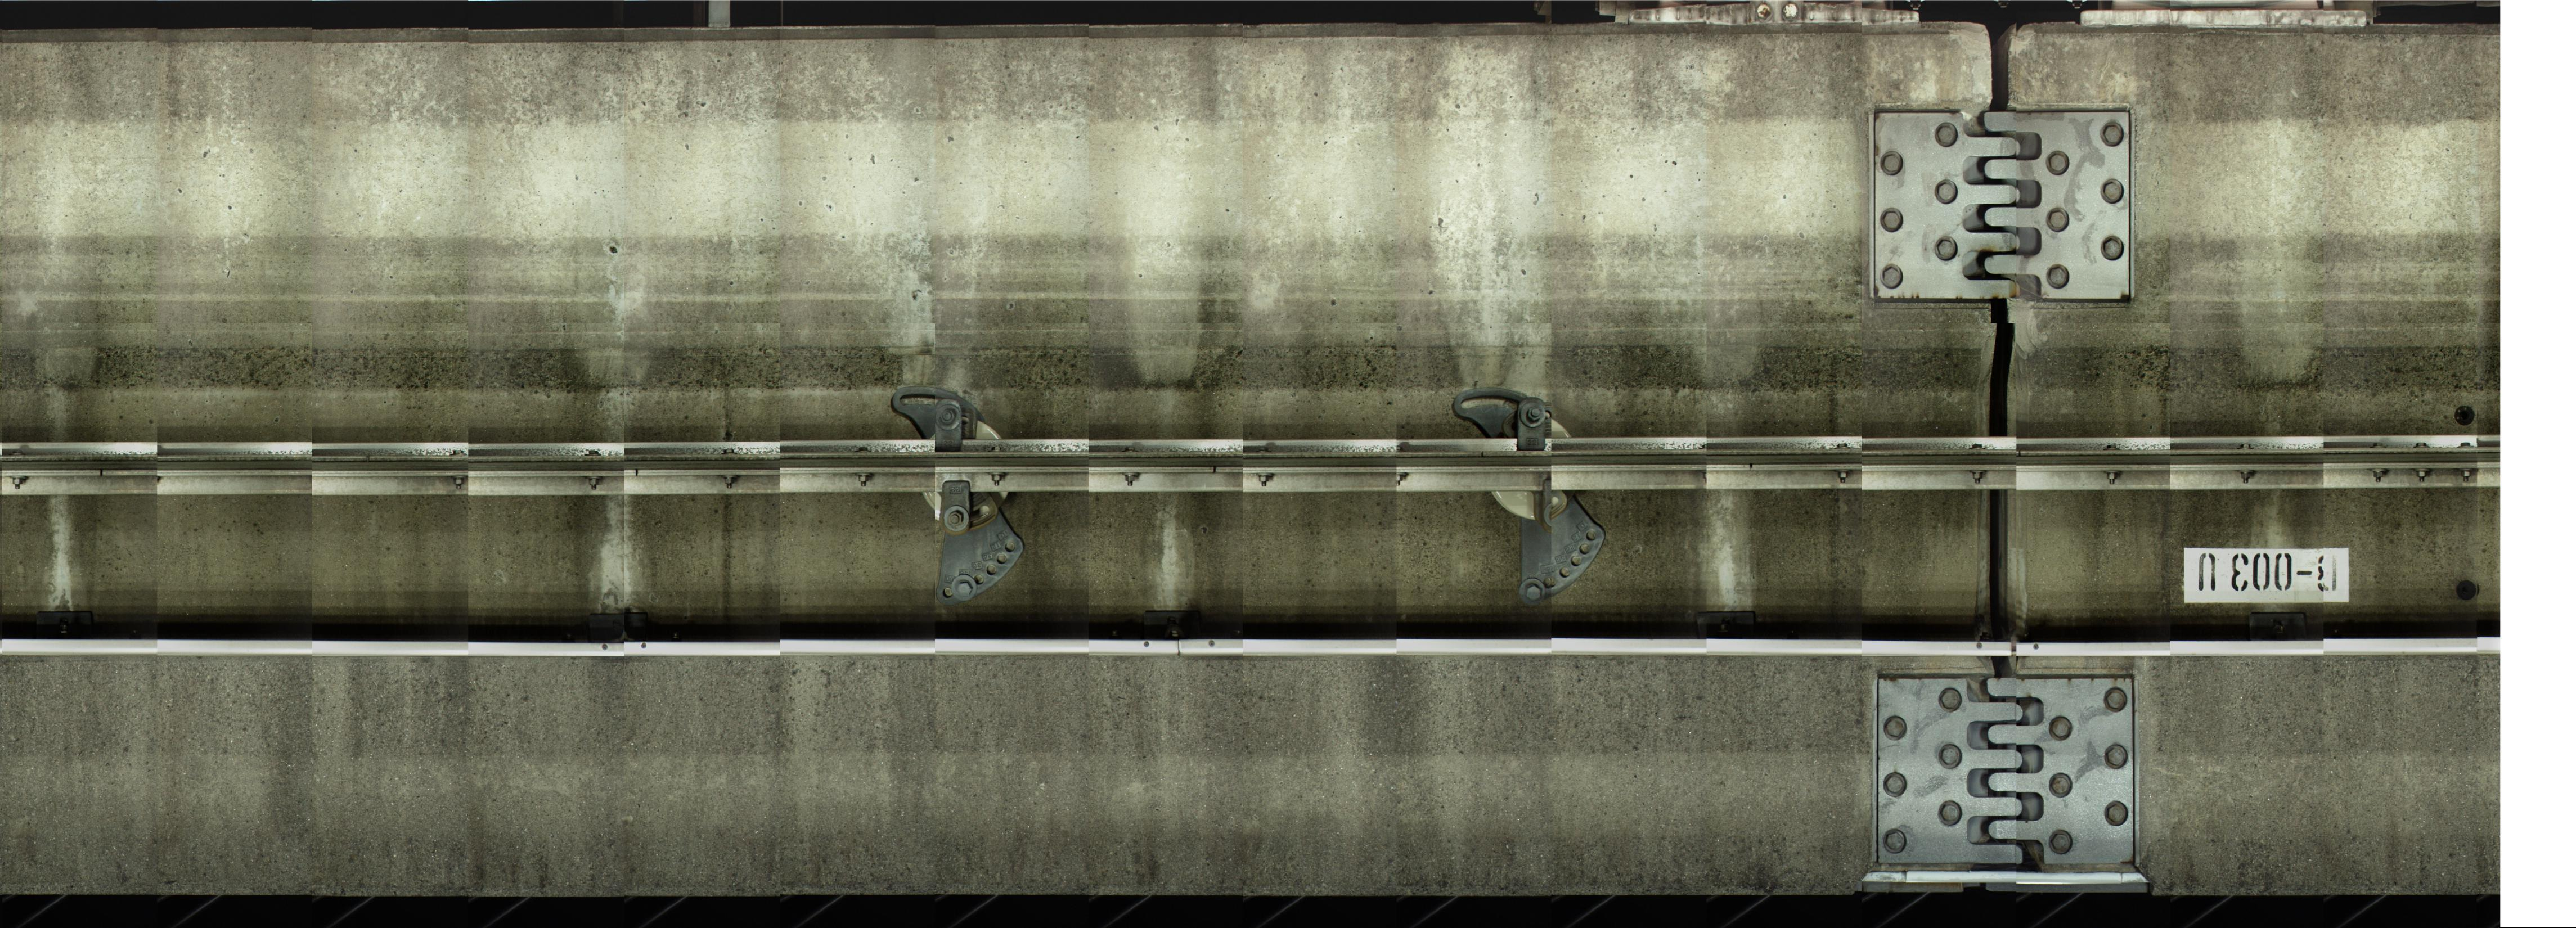concrete: (2, 28, 1989, 443), (5, 496, 1994, 894), (2006, 28, 2502, 435), (2008, 499, 2500, 897)
